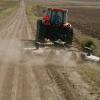Tractor: (32, 3, 76, 61)
